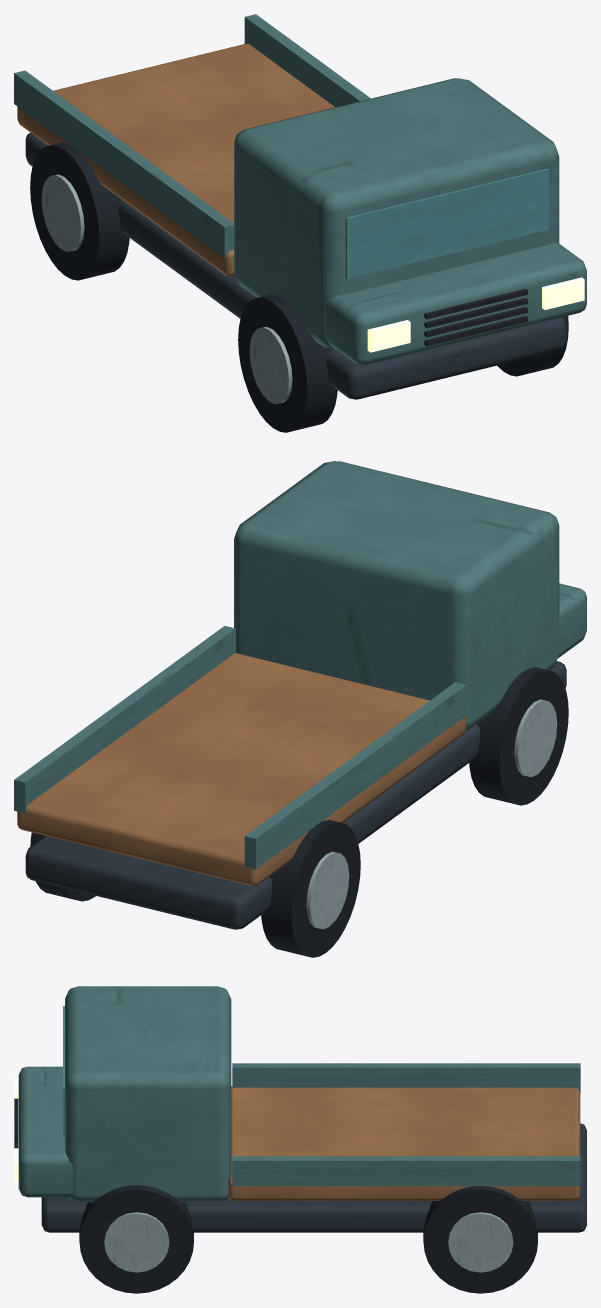
Rendered from FlatbedTruck.glb.
3 renders of one model, top to bottom at view 1: azimuth 30°, elevation 25°; view 2: azimuth 150°, elevation 25°; view 3: azimuth 270°, elevation 25°, orthographic. The views are drawn at different scales.
Visible parts, largest first — view 1: Cab, Flat bed, Bonnet, Chassis, Glass, Bed rail, Tyre, Tyre.001, Bed rail.001, Hub.001, Hub, Light (+6 smaller); view 2: Cab, Flat bed, Chassis, Bed rail, Bed rail.001, Tyre, Tyre.001, Hub, Hub.001, Bonnet, Tyre.003; view 3: Cab, Flat bed, Chassis, Bed rail.001, Bed rail, Tyre.002, Tyre.003, Bonnet, Hub.002, Hub.003.
Boxes of the visible parts, left/top/right/bottom form: Cab: left=234, top=78, right=559, bottom=348; Flat bed: left=17, top=43, right=334, bottom=276; Bonnet: left=325, top=243, right=586, bottom=364; Chassis: left=25, top=132, right=566, bottom=399; Glass: left=345, top=168, right=549, bottom=278; Bed rail: left=14, top=70, right=233, bottom=257; Tyre: left=238, top=294, right=337, bottom=432; Tyre.001: left=30, top=142, right=129, bottom=280; Bed rail.001: left=244, top=14, right=370, bottom=107; Hub.001: left=41, top=174, right=84, bottom=251; Hub: left=249, top=326, right=292, bottom=404; Light: left=367, top=320, right=410, bottom=352; Cab: left=234, top=461, right=559, bottom=730; Flat bed: left=17, top=653, right=465, bottom=885; Chassis: left=25, top=661, right=566, bottom=929; Bed rail: left=244, top=682, right=466, bottom=869; Bed rail.001: left=14, top=626, right=235, bottom=813; Tyre: left=469, top=667, right=568, bottom=805; Tyre.001: left=261, top=820, right=360, bottom=957; Hub: left=514, top=699, right=557, bottom=776; Hub.001: left=306, top=851, right=349, bottom=929; Bonnet: left=557, top=583, right=586, bottom=658; Tyre.003: left=30, top=832, right=95, bottom=901; Cab: left=65, top=986, right=231, bottom=1202; Flat bed: left=228, top=1086, right=580, bottom=1200; Chassis: left=41, top=1123, right=586, bottom=1232; Bed rail.001: left=232, top=1156, right=580, bottom=1186; Bed rail: left=232, top=1063, right=580, bottom=1092; Tyre.002: left=79, top=1185, right=193, bottom=1293; Tyre.003: left=423, top=1186, right=537, bottom=1293; Bonnet: left=18, top=1066, right=72, bottom=1197; Hub.002: left=104, top=1212, right=169, bottom=1272; Hub.003: left=448, top=1212, right=513, bottom=1272.
Size of the model in its own units: 2.28 by 2.08 by 5.1.
Materials: 7 (7 with a texture image).
